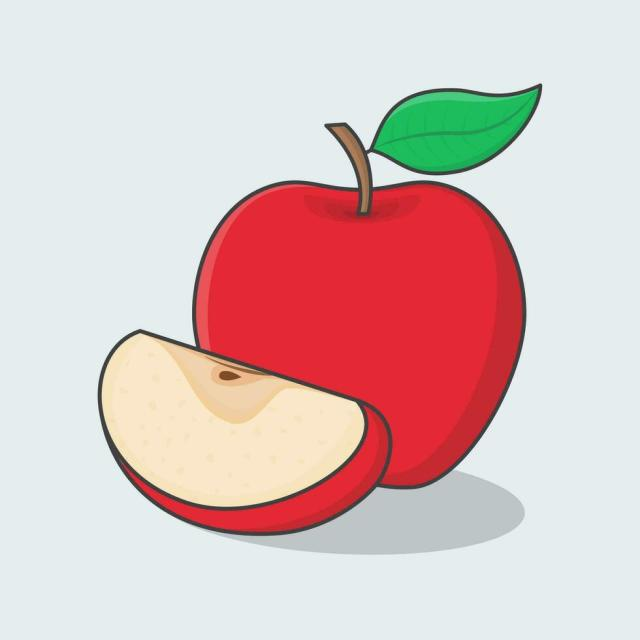manzana: (169, 72, 566, 497), (78, 318, 398, 542)
